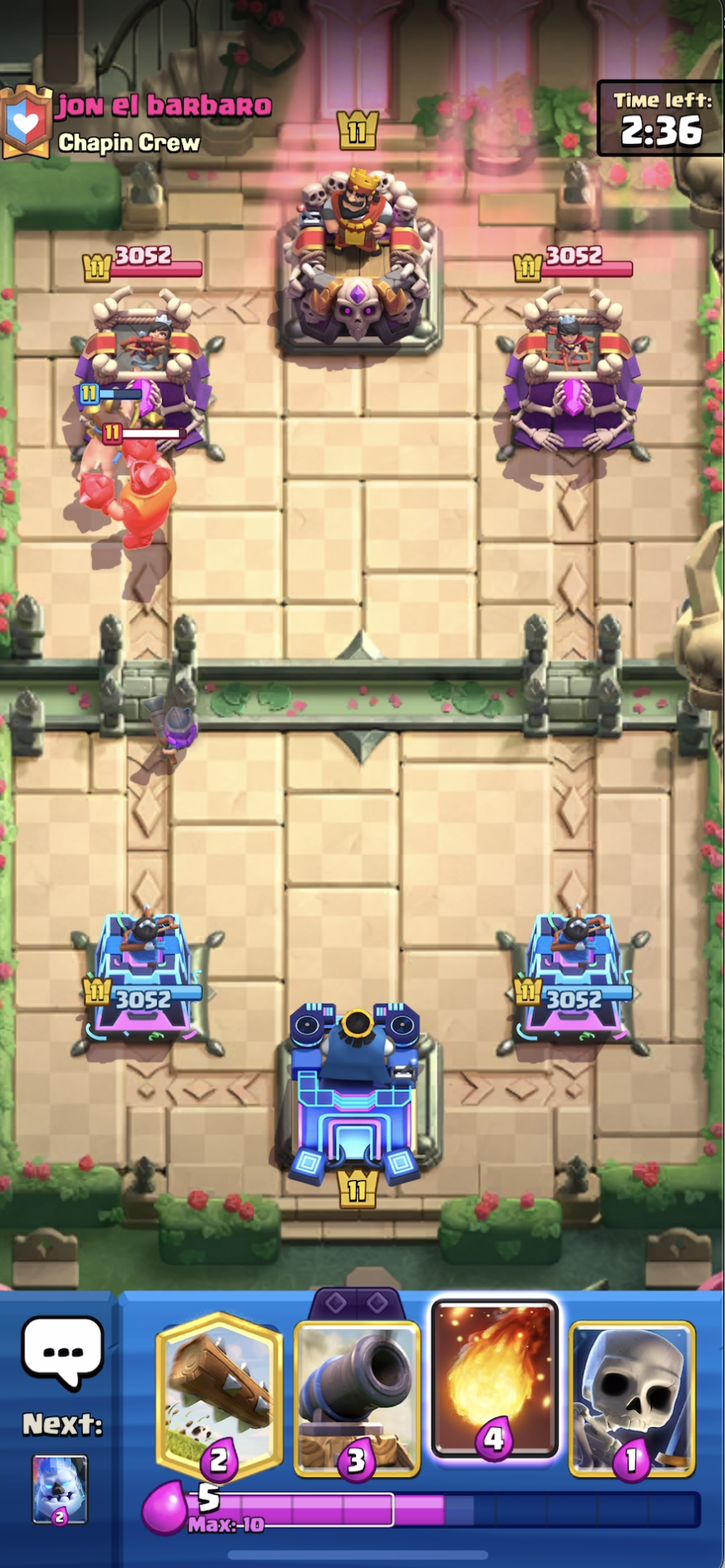mega-knight: (76, 426, 199, 565)
